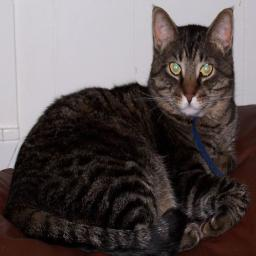catnose: (184, 91, 196, 104)
